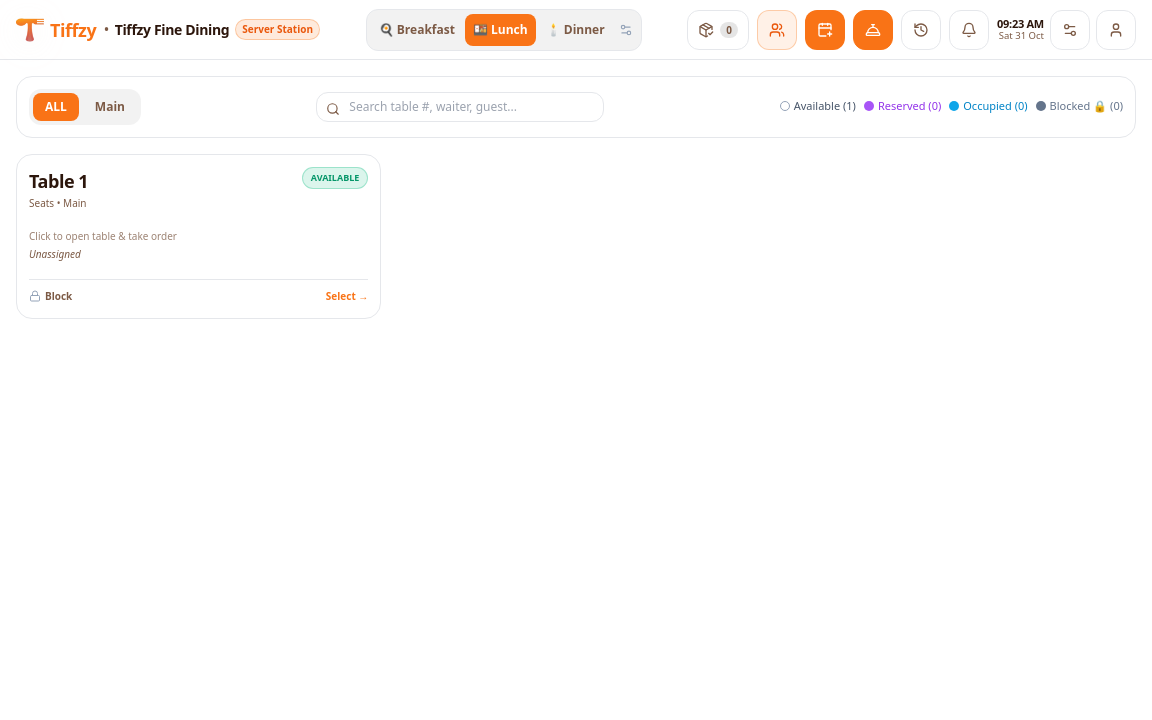
it: Server Station — Table Identity & Kitchen Notification › 5. Server Station top navbar has Profile button that navigates to Server Profile
Click the button with test id "server-profile-btn".
click(1116, 30)  # box [1096,10,1136,50]
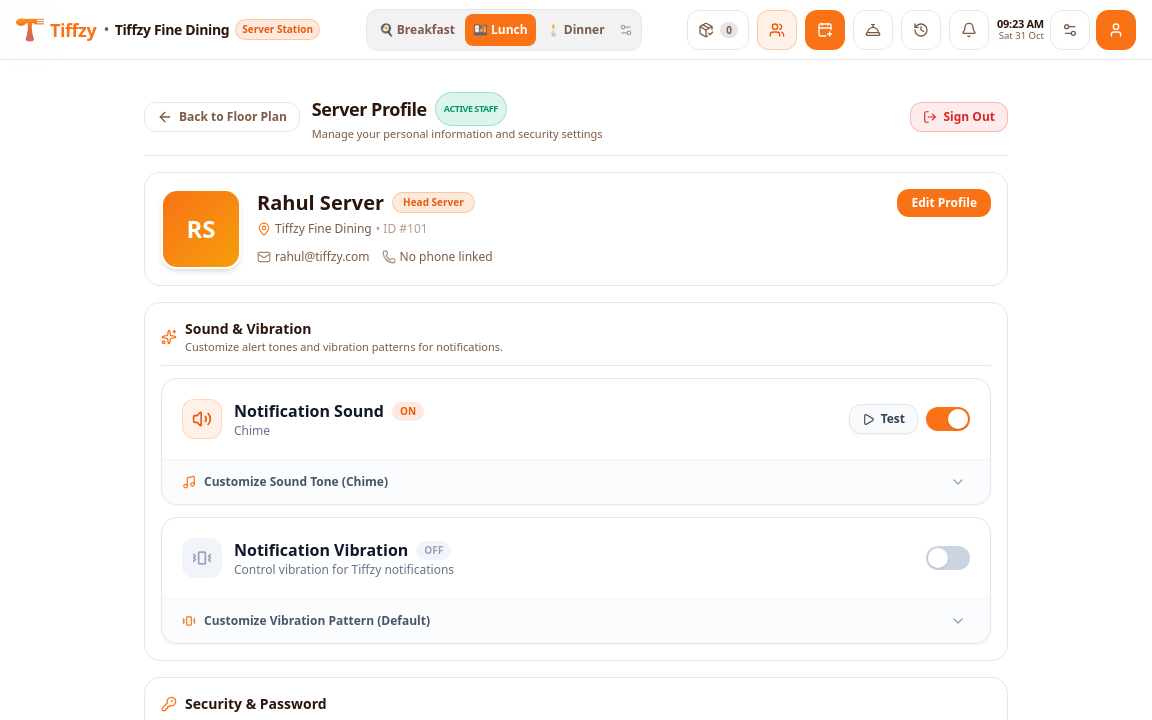
Check: the heading "Server Profile ACTIVE STAFF" is shown, box [312,92,507,126]
